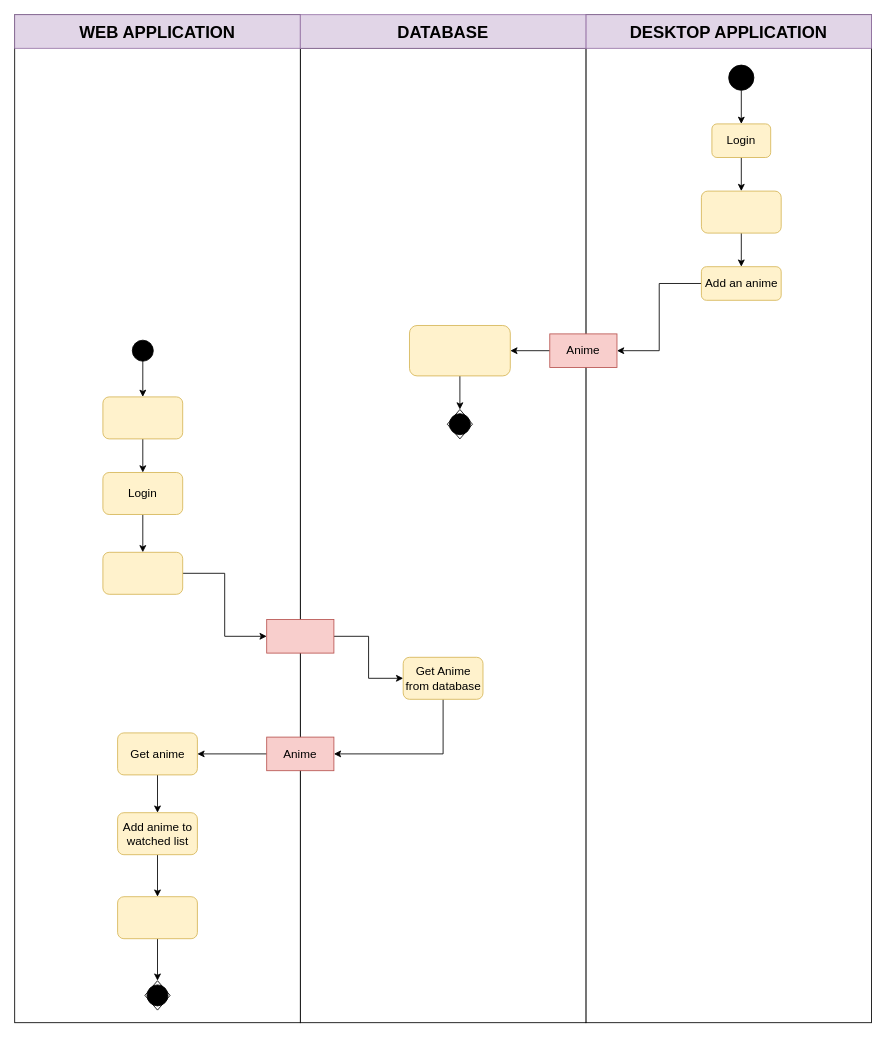
The diagram is 886 pixels wide and 1037 high, and some of its shapes have lost their labels. The shapes that lost their labels are listed below. From the top down, each one's centre as x and y in pixels, then its label:
At [741,211]: "Open Anime page".
At [459,350]: "Added to the database".
At [142,417]: "Open website".
At [142,572]: "Search for Anime".
At [300,636]: "Request".
At [157,917]: "Display list of anime on profile".
